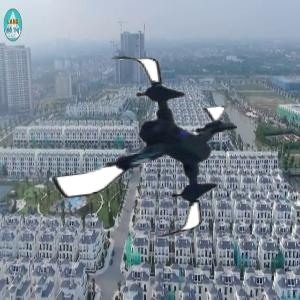drone: (47, 50, 245, 248)
